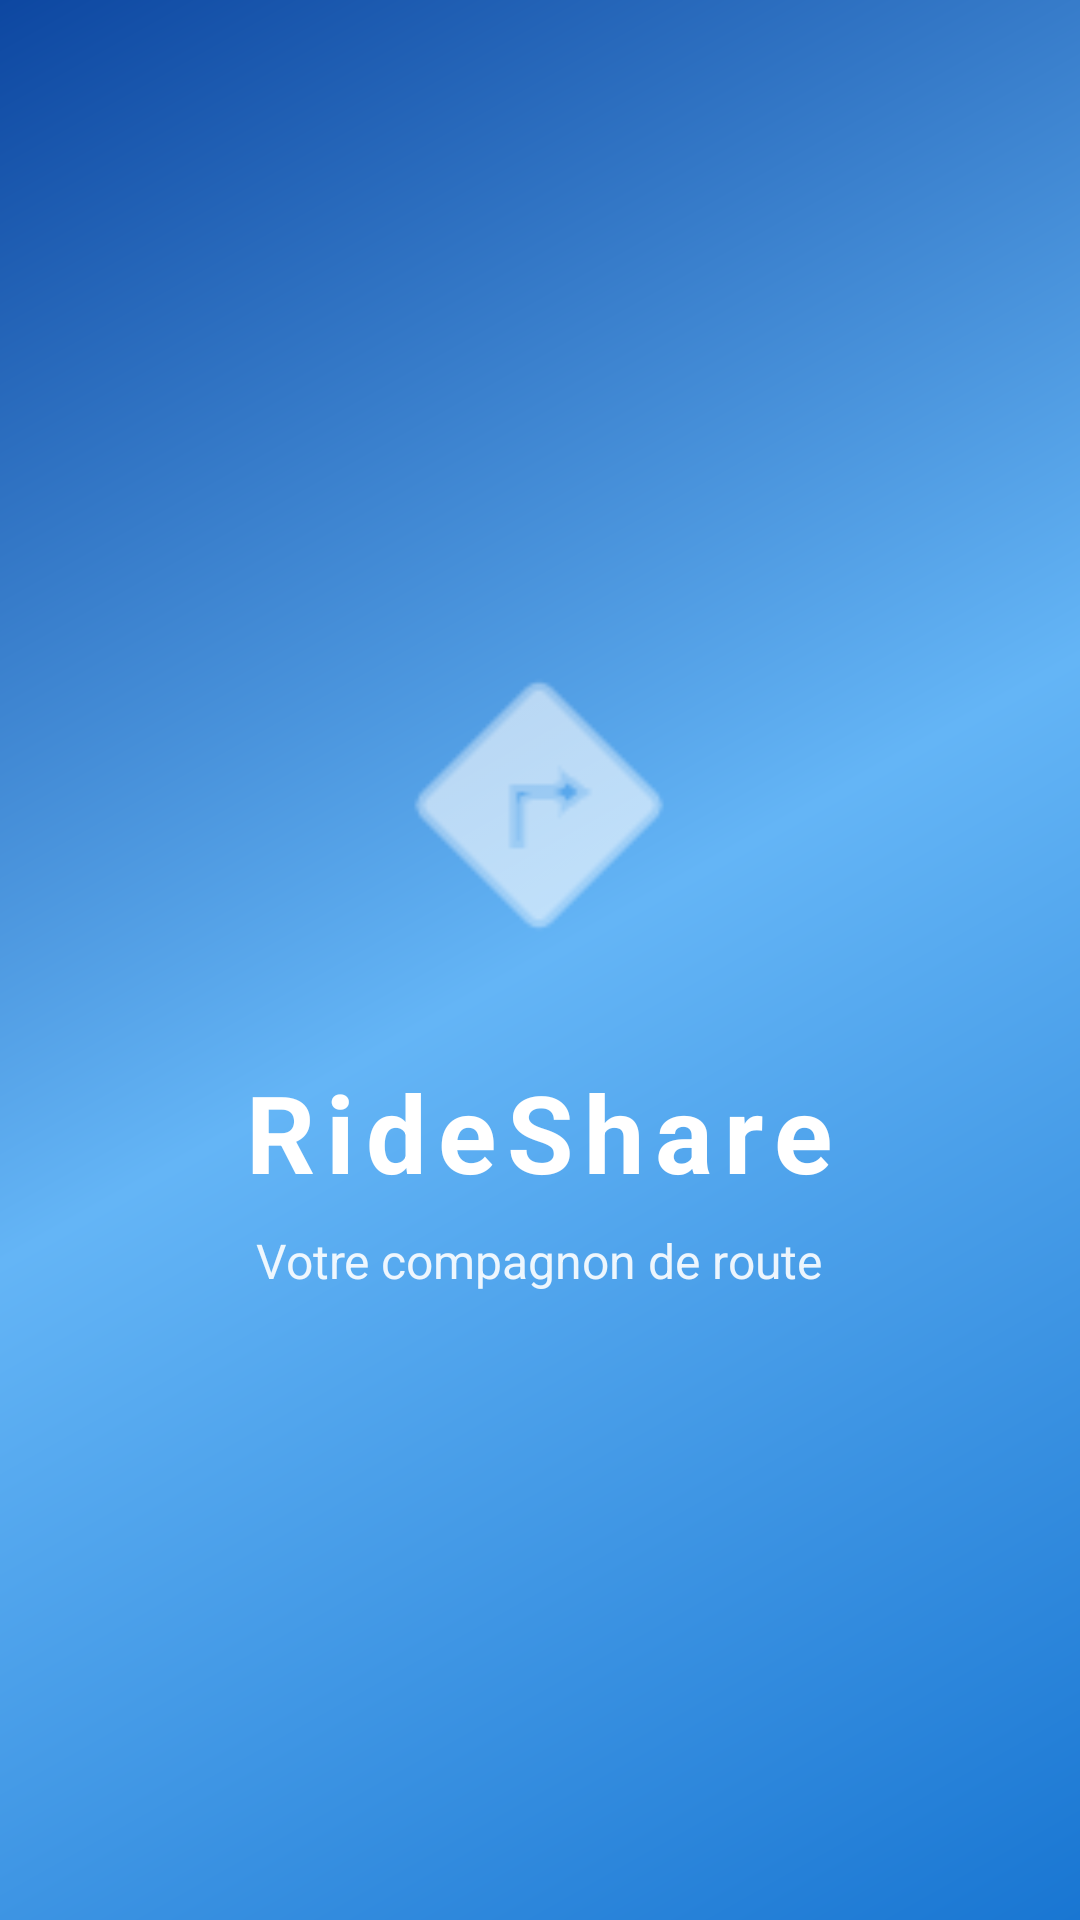

Where to tap for icons on this 1080w x 1920h app screen, as point (x, y):
directions: point (539, 805)
